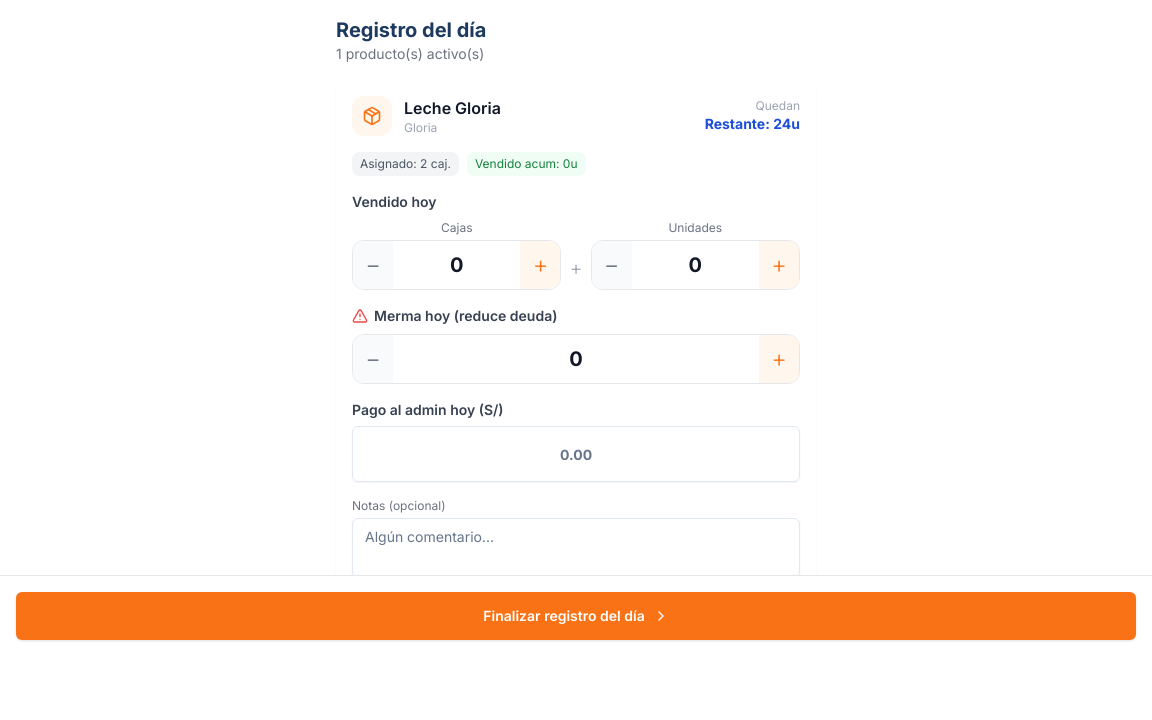
it: muestra error visible en DOM (role=alert) al confirmar sin movimiento
The image size is (1152, 720).
Click sin ingresar ningún movimiento
Click the button "Finalizar registro del día".
click(576, 616)  # box [16,592,1136,640]
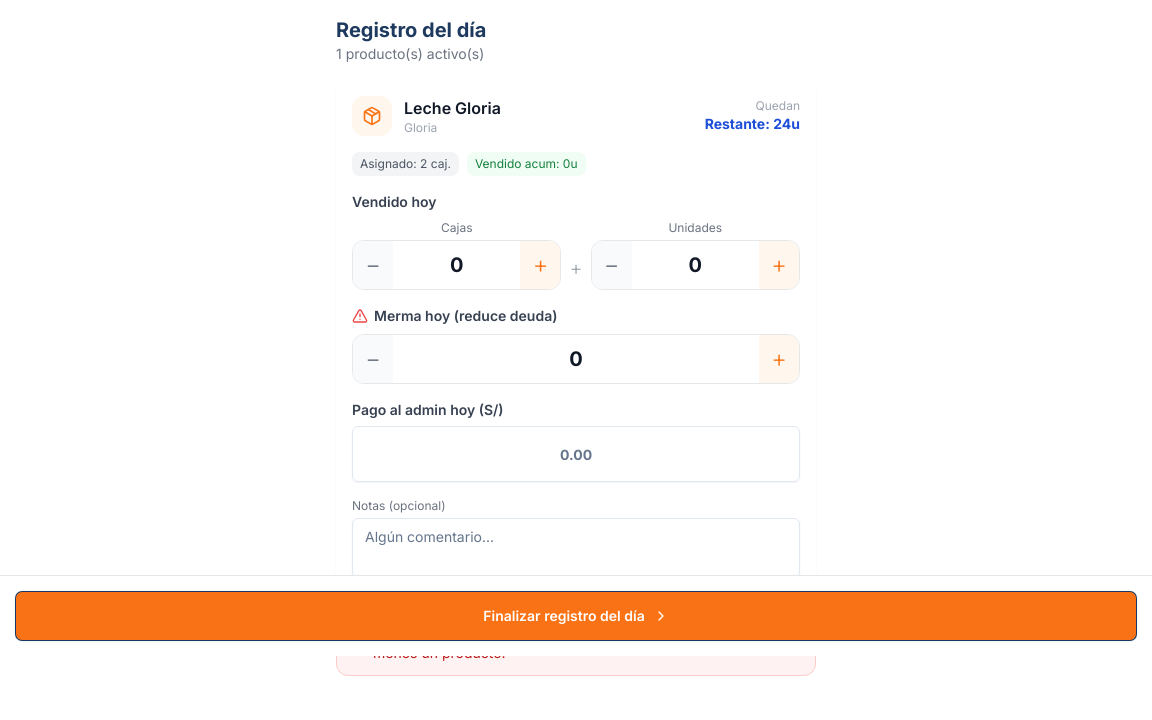
Expected: the message is shown, [336,610,816,676]
